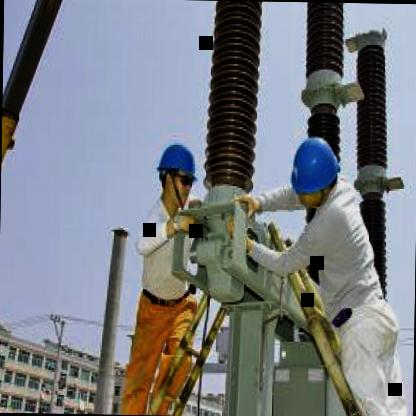helmet: (286, 128, 342, 218), (152, 132, 198, 218)
